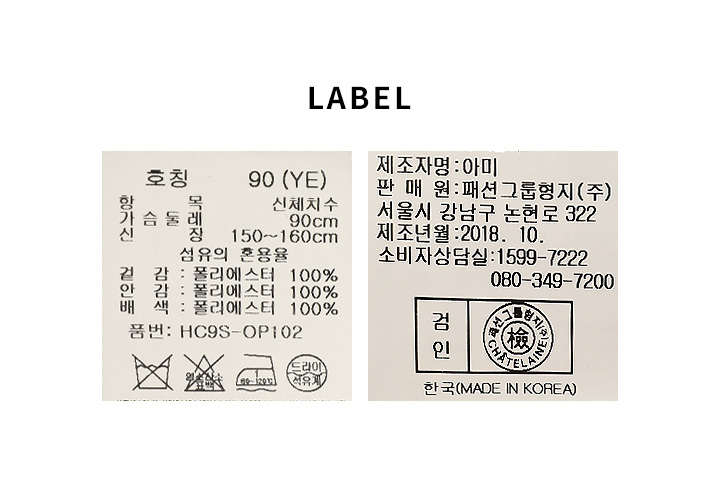KR_dry_clean_petroleum: (285, 347, 330, 396)
KR_iron_low_temp_with_cloth: (233, 349, 279, 396)
KR_no_bleach: (180, 351, 229, 396)
KR_no_wash: (131, 350, 172, 392)
